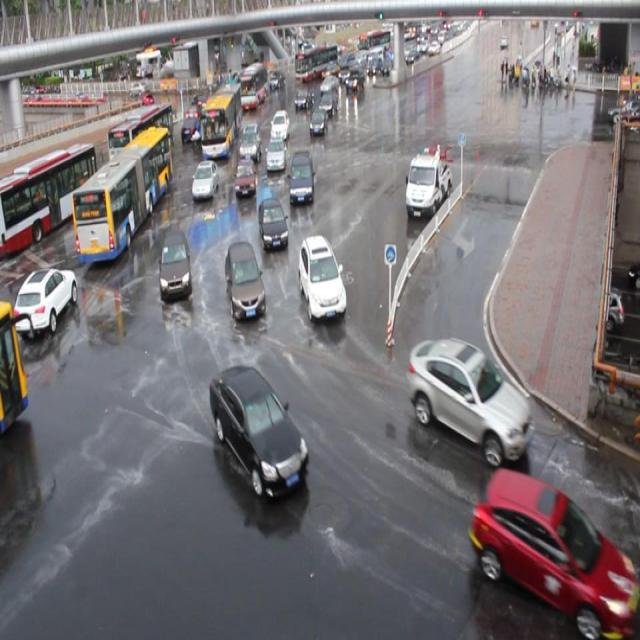bus: (406, 149, 452, 217)
car: (475, 467, 621, 630), (407, 332, 531, 467), (208, 360, 311, 502), (17, 265, 78, 338), (298, 232, 347, 322), (224, 238, 266, 322), (159, 226, 193, 300), (257, 196, 286, 253), (288, 147, 314, 203), (191, 157, 220, 200), (232, 158, 255, 198), (240, 124, 262, 162), (264, 135, 284, 173), (271, 108, 290, 141), (181, 117, 203, 144), (293, 83, 311, 109), (320, 90, 339, 114), (307, 111, 326, 134), (191, 89, 208, 111), (184, 102, 204, 120)
van: (71, 128, 176, 260), (0, 144, 96, 254), (109, 100, 172, 164), (203, 76, 242, 160), (235, 60, 268, 109)
